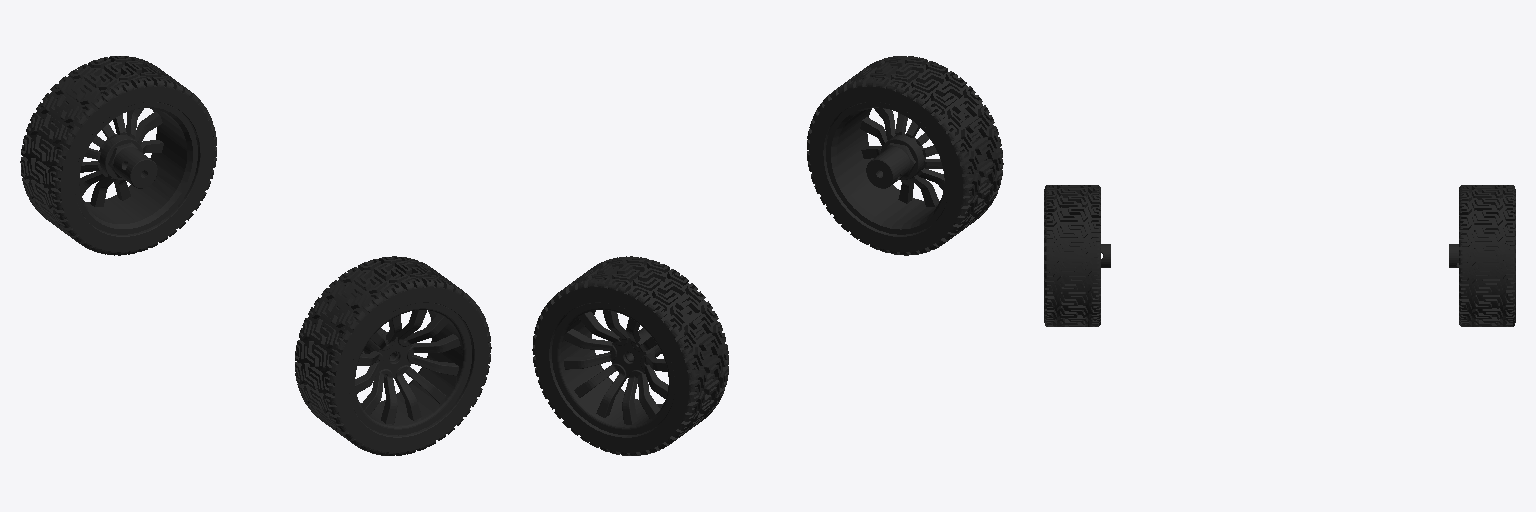
robot.urdf — uiabot_mini:
<?xml version="1.0"?>
<robot name="uiabot_mini">

  <!-- <link name="world_frame"/> -->

  <!-- <joint name="world_to_base" type="fixed">
    <parent link="world_frame"/>
    <child link="base_link"/>
    <origin xyz="0 0 0.05635" rpy="0 0 0"/>
  </joint> -->

  <!-- ========= Left Wheel ========= -->
  <link name="wheel_l_link">
    <visual>
      <geometry>
        <mesh filename="package://uiabot_mini_description/meshes/wheel.STL"/>
      </geometry>
      <origin xyz="0 0 0" rpy="0 0 0"/>
      <material name="dark_gray">
        <color rgba="0.2 0.2 0.2 1"/>
      </material>
    </visual>
  </link>

  <joint name="wheel_l_joint" type="continuous">
    <parent link="base_link"/>
    <child link="wheel_l_link"/>
    <origin xyz="0.00060024 0.09875 0.0339981720062555" rpy="-1.5707963267949 0 0"/>
    <axis xyz="0 0 1"/>
  </joint>

  <!-- ========= Right Wheel ========= -->
  <link name="wheel_r_link">
    <visual>
      <geometry>
        <mesh filename="package://uiabot_mini_description/meshes/wheel.STL"/>
      </geometry>
      <origin xyz="0 0 0" rpy="3.14159265358979 0 0"/>
      <material name="dark_gray">
        <color rgba="0.2 0.2 0.2 1"/>
      </material>
    </visual>
  </link>

  <joint name="wheel_r_joint" type="continuous">
    <parent link="base_link"/>
    <child link="wheel_r_link"/>
    <origin xyz="0.00060024 -0.09875  0.0339981720062555 " rpy="-1.5707963267949 0 0"/>
    <axis xyz="0 0 1"/>
  </joint>

  <!-- ========= IMU (BNO055) ========= -->
  <link name="bno055"/>

  <joint name="imu_fixed_joint" type="fixed">
    <parent link="base_link"/>
    <child link="bno055"/>
    <origin xyz="-71.75e-3 -58.75e-3 110.35e-3" rpy="0 0 0"/>
  </joint>

  <!-- ========= LIDAR (RPLidar A1) ========= -->
  <link name="lidar_link"/>

  <joint name="lidar_fixed_joint" type="fixed">
    <parent link="base_link"/>
    <child link="lidar_link"/>
    <origin xyz="0 0 0.15" rpy="0 0 3.14159265358979"/>  <!-- adjust xyz to your lidar mount position -->
  </joint>

  <!-- ========= Base Footprint ========= -->
  <link name="base_footprint"/>

  <joint name="base_footprint_joint" type="fixed">
    <parent link="base_link"/>
    <child link="base_footprint"/>
    <origin xyz="0 0 0.05" rpy="0 0 0"/>
  </joint>

  <!-- ========= Base ========= -->
  <link name="base_link">
    <visual>
      <geometry>
        <mesh filename="package://uiabot_mini_description/meshes/base_link.STL"/>
      </geometry>
      <origin xyz="0 0 0" rpy="0 0 0"/>
      <material name="light_gray">
        <color rgba="0.6 0.6 0.6 1.0"/>
      </material>
    </visual>
  </link>

</robot>

--- What the picture shows (computed from the rendered views, not written in the file) ---
The picture shows the robot from 3 angles, left to right: view 1: azimuth 30°, elevation 25°; view 2: azimuth 150°, elevation 25°; view 3: azimuth 270°, elevation 25°; orthographic projection.
Robot: uiabot_mini — 6 links, 5 joints (2 continuous, 3 fixed); root link base_link; default pose: all joints at 0.
Visible links, largest first — view 1: wheel_l_link, wheel_r_link; view 2: wheel_l_link, wheel_r_link; view 3: wheel_l_link, wheel_r_link.
Link boxes in pixels (left/top/right/bottom): wheel_l_link: left=20, top=56, right=216, bottom=255; wheel_r_link: left=295, top=256, right=491, bottom=455; wheel_l_link: left=532, top=256, right=728, bottom=455; wheel_r_link: left=807, top=56, right=1003, bottom=255; wheel_l_link: left=1449, top=185, right=1515, bottom=326; wheel_r_link: left=1044, top=185, right=1110, bottom=326.
Size in the robot's own frame: 0.068 by 0.2245 by 0.068 metres.
2 mesh visuals loaded from 2 distinct referenced files (1 binary STL); not drawn: 1 (reference not matched to a file when rendering).